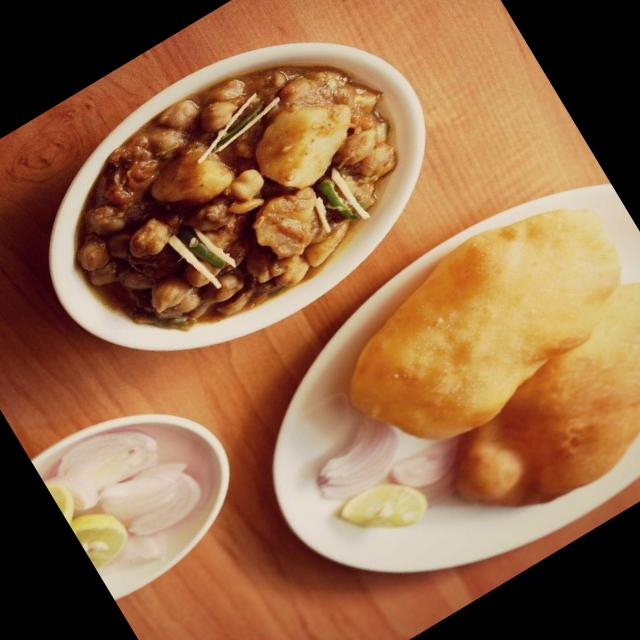Bhatura: (309, 178, 640, 477), (403, 260, 640, 547)
Chole: (30, 8, 448, 378)
